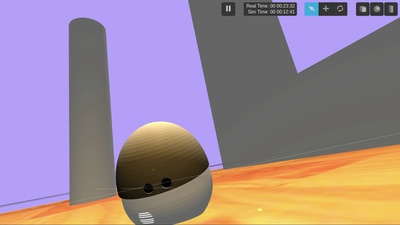mira_robot: (116, 120, 213, 225)
